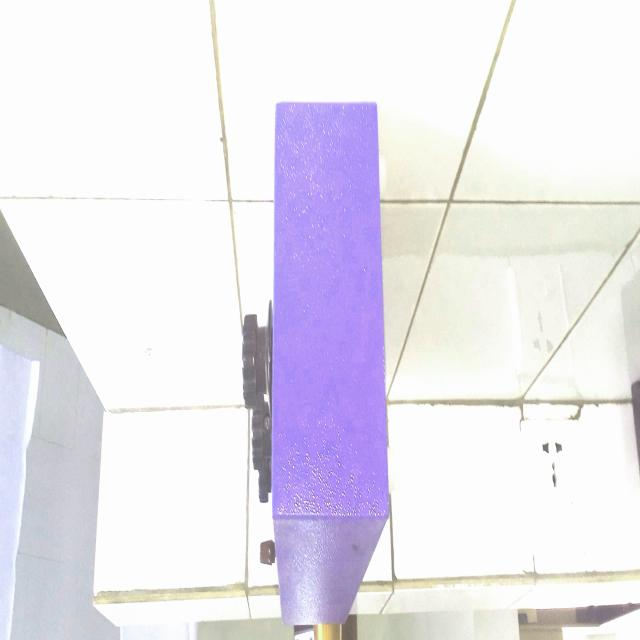Decade Capacitor Box: (236, 92, 396, 601)
